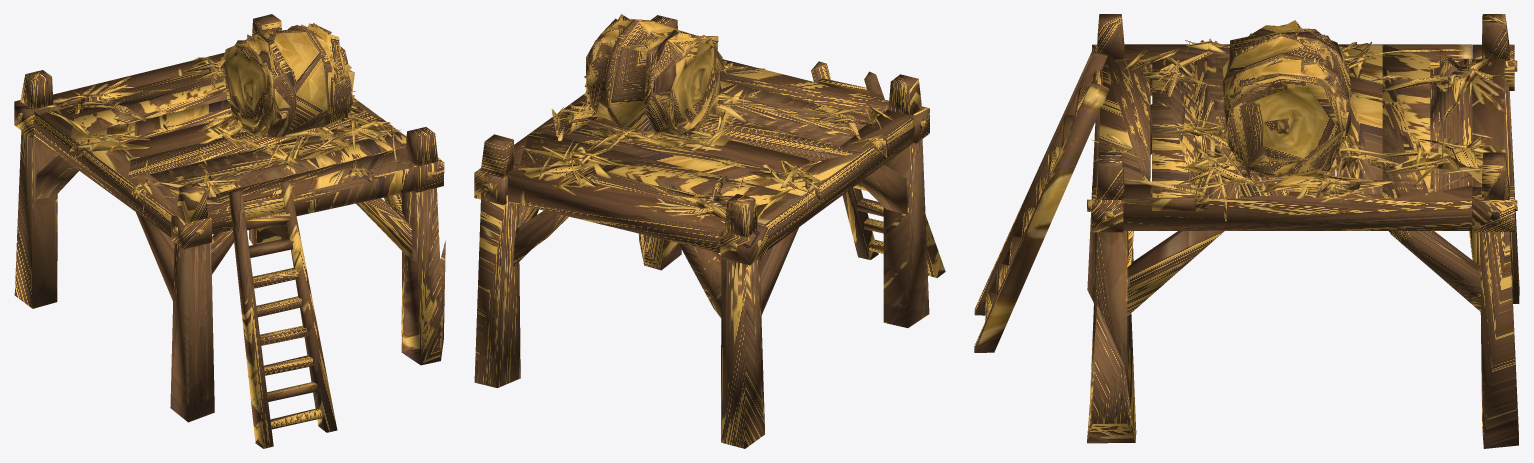
The model's file is hay_loft.glb.
The picture shows the model from 3 angles, left to right: view 1: azimuth 30°, elevation 25°; view 2: azimuth 150°, elevation 25°; view 3: azimuth 270°, elevation 25°; orthographic projection. The views are drawn at different scales.
Size of the model in its own units: 0.6771 by 0.6996 by 0.9585.
Materials: 1 (1 with a texture image).
